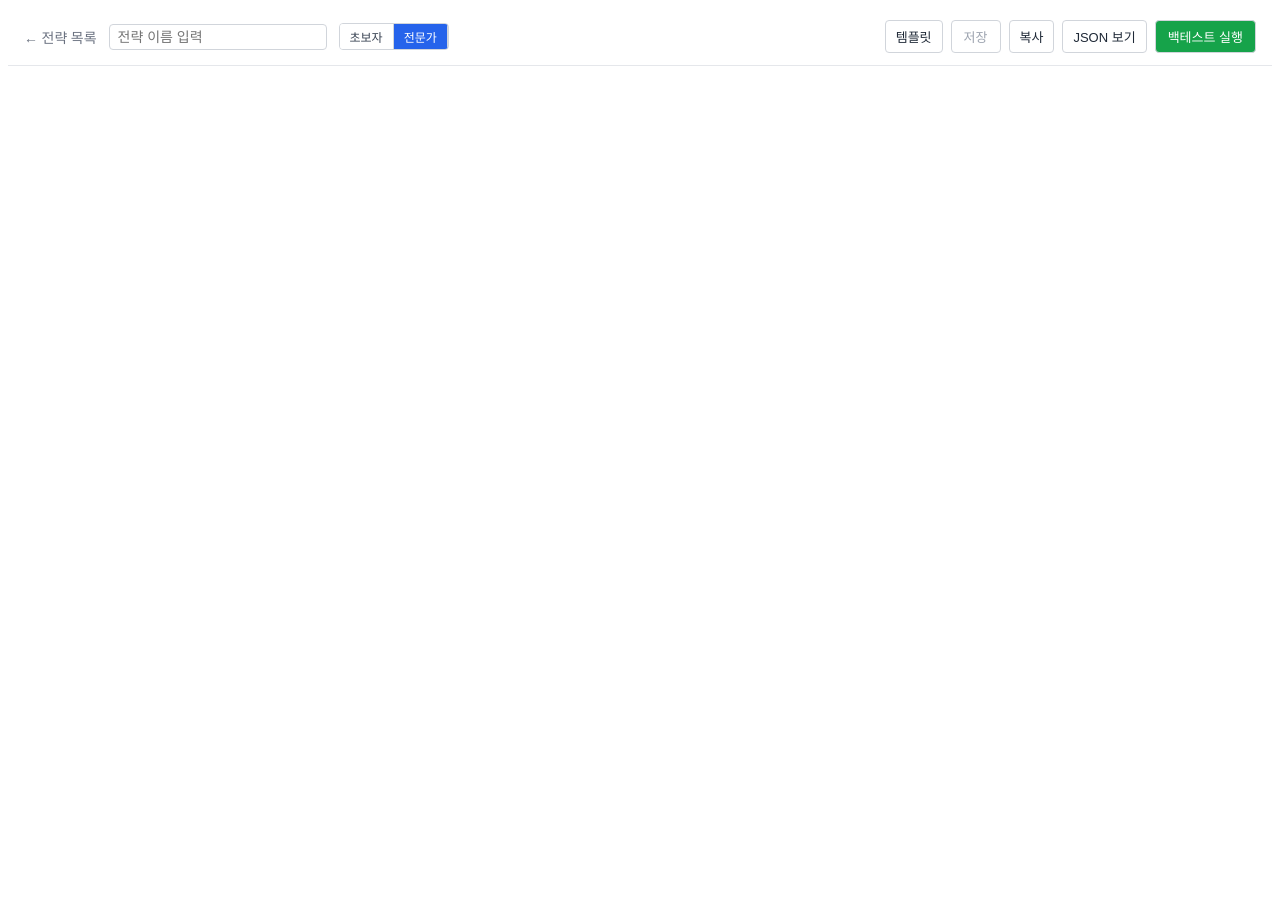
Test: StrategyHeader › JSON 보기 클릭 → modal 열림 + serialized JSON 표시
What coordinates should you click on to do the following:
click the button labelled "JSON 보기"
I would click on:
 (1104, 36)
Its box is [1062,20,1147,53].
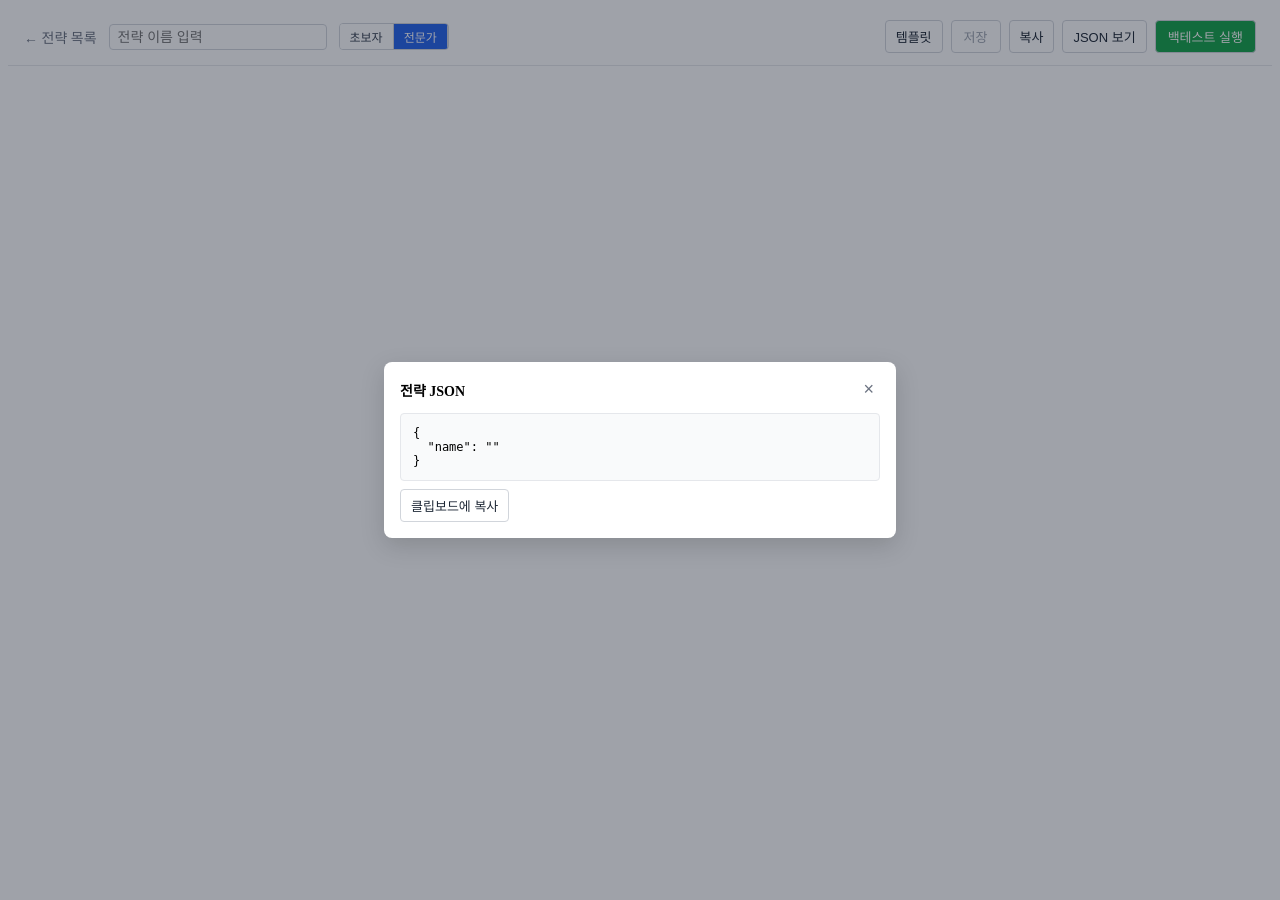
Result: the dialog "전략 JSON" is shown
Result: the text named "직렬화된 전략 JSON" shows "\"name\":" at [413,426,500,468]
